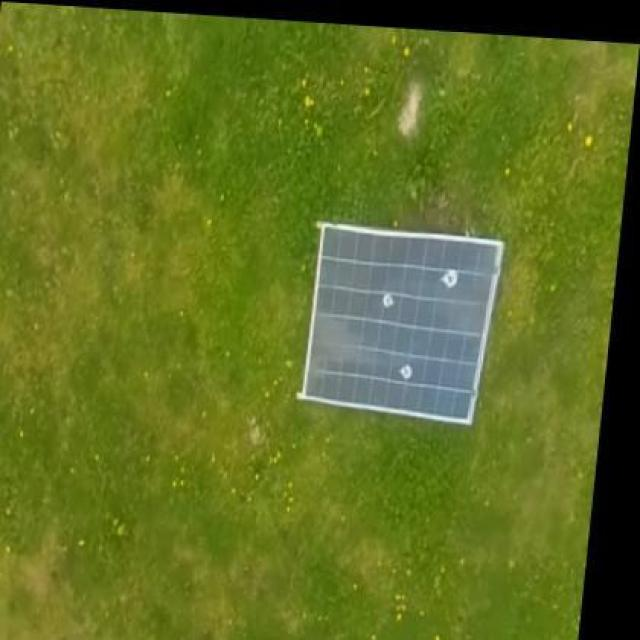soiled: (300, 223, 504, 432)
